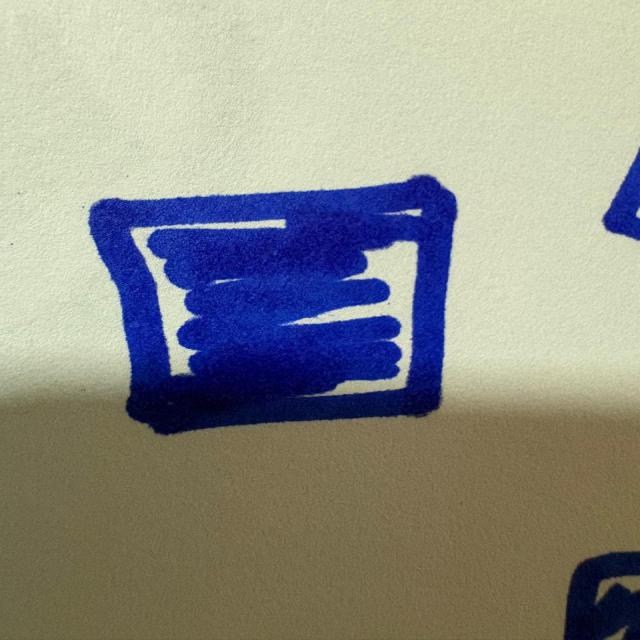Square: (80, 172, 490, 435)
